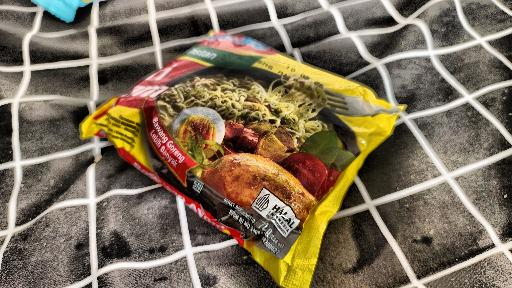indomie: (91, 3, 442, 260)
